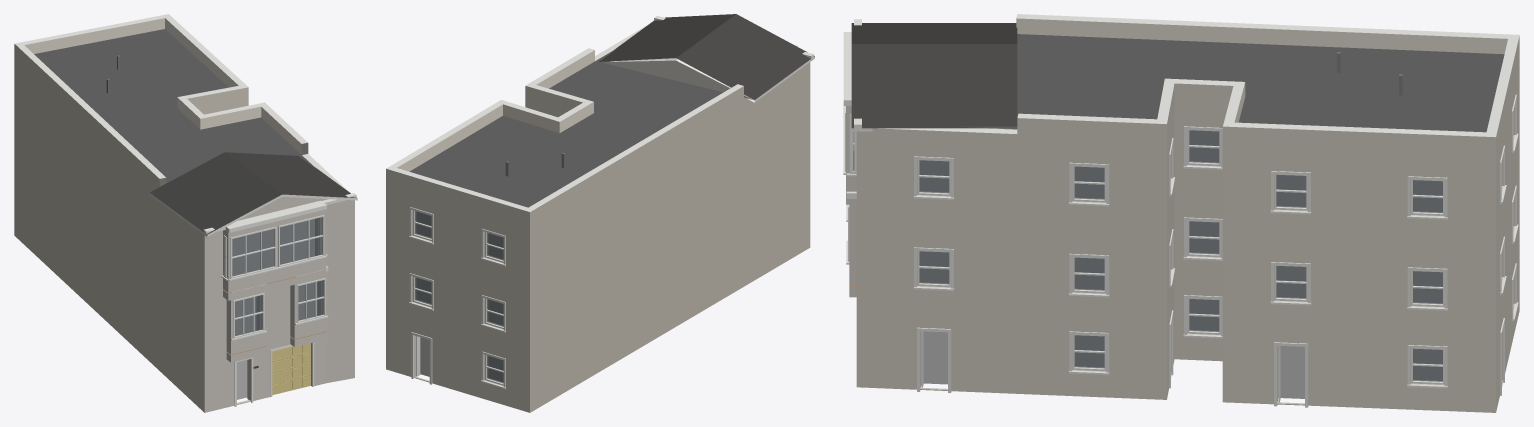
Rendered from exterior.glb.
3 renders of one model, left to right at view 1: azimuth 30°, elevation 25°; view 2: azimuth 150°, elevation 25°; view 3: azimuth 270°, elevation 25°, orthographic. The views are drawn at different scales.
Parts seen in each view (by area): view 1: shell, roof, bay-windows, bay-glazing, shadow-proxy, doors, gable; view 2: shell, roof, shadow-proxy, trim, glazing, gable, frames; view 3: shell, roof, shadow-proxy, glazing, trim, frames, bay-windows.
Boxes of the visible parts, x1,y1,x2,y2 form: shell: [14, 14, 354, 412]; roof: [34, 29, 357, 236]; bay-windows: [221, 200, 328, 362]; bay-glazing: [223, 215, 325, 338]; shadow-proxy: [232, 219, 314, 399]; doors: [237, 342, 314, 404]; gable: [203, 193, 356, 234]; shell: [386, 24, 810, 412]; roof: [409, 14, 814, 207]; shadow-proxy: [416, 211, 503, 381]; trim: [409, 207, 505, 389]; glazing: [415, 211, 503, 383]; gable: [601, 16, 813, 99]; frames: [412, 210, 503, 385]; shell: [856, 14, 1519, 412]; roof: [851, 23, 1504, 132]; shadow-proxy: [920, 128, 1442, 398]; glazing: [919, 130, 1442, 381]; trim: [913, 94, 1518, 407]; frames: [917, 112, 1513, 384]; bay-windows: [843, 32, 856, 297].
Size of the model in its own units: 9.9 by 10.37 by 21.72.
